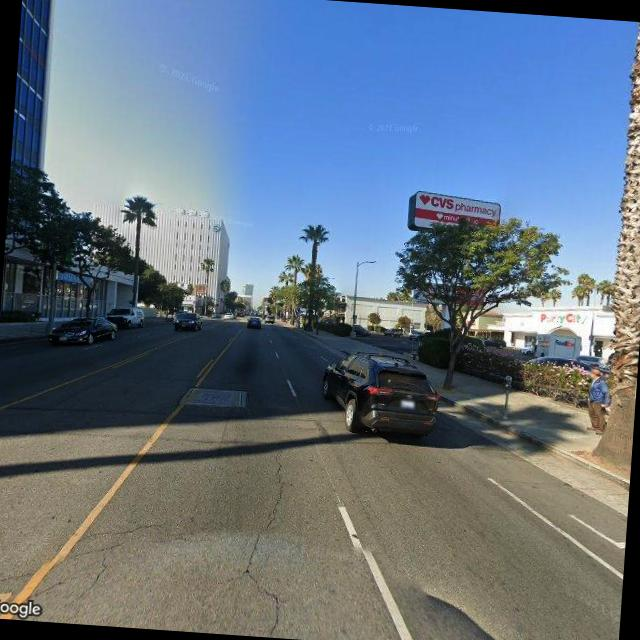crack: (233, 446, 296, 637), (0, 564, 37, 590)
